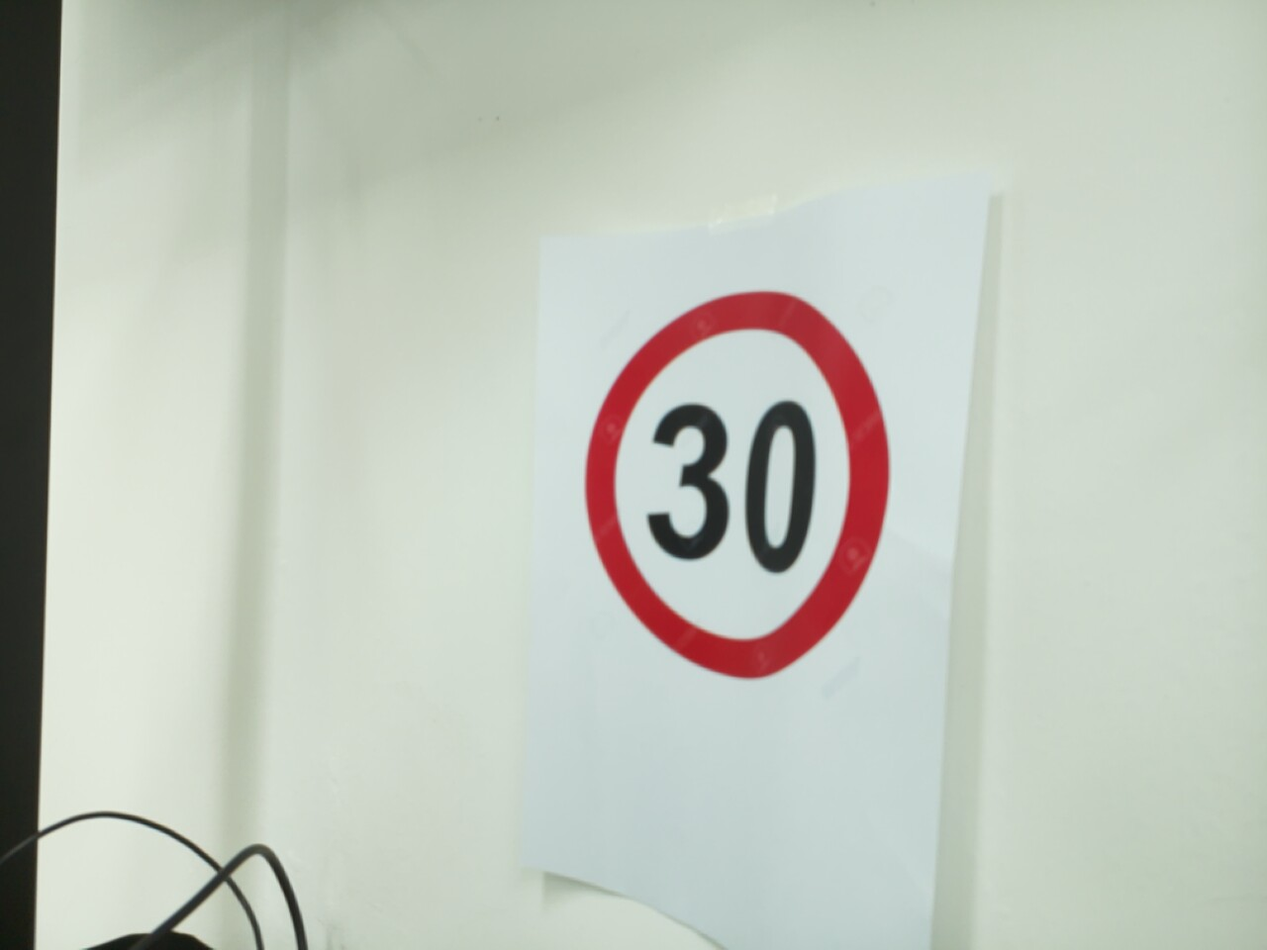speed_30: (575, 279, 899, 691)
